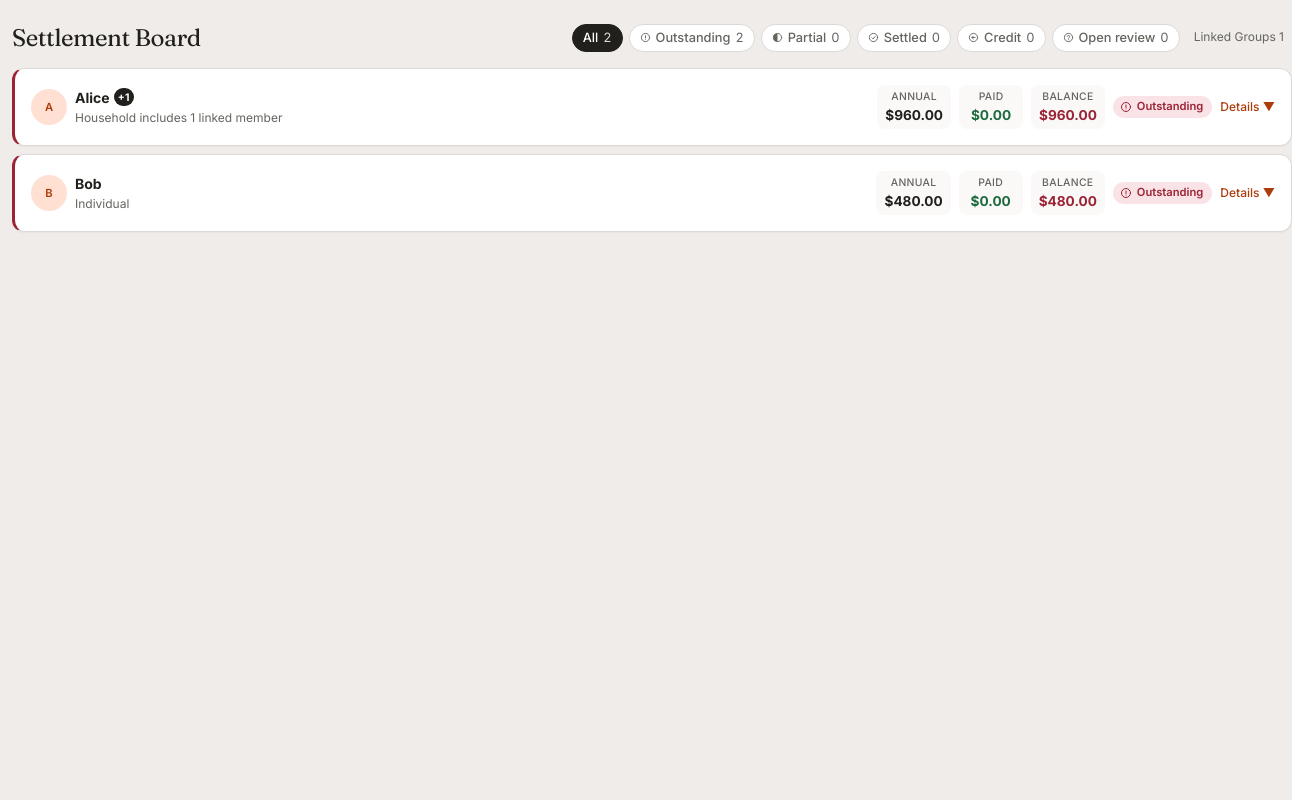
Test: SettlementBoard › expands card to show bill breakdown
The image size is (1292, 800).
Click the text "Alice". click: (49, 107)
box: top-left (31, 85), bottom-right (1275, 129)
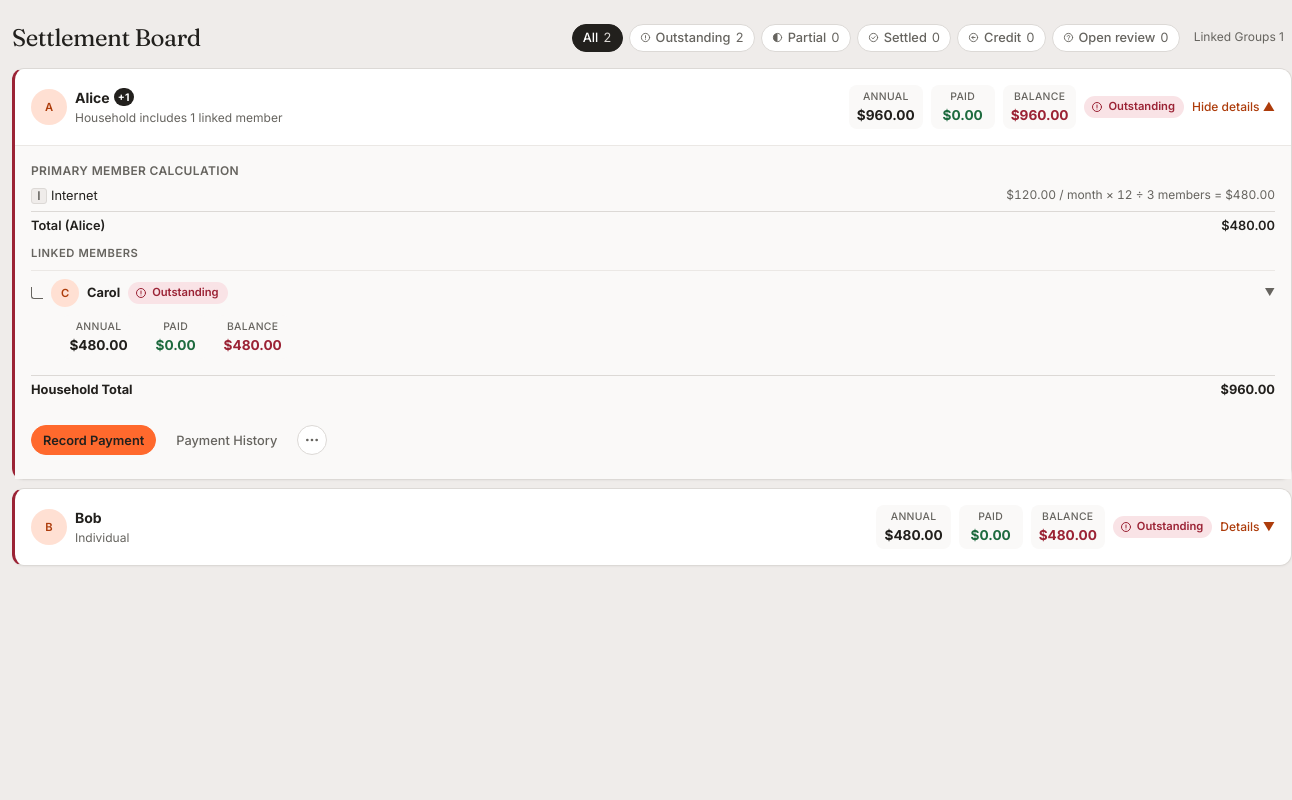
Check: the text "Primary Member Calculation" is shown, box top-left (31, 163), bottom-right (239, 178)
Check: the text "Internet" is shown, box top-left (51, 186), bottom-right (98, 205)
